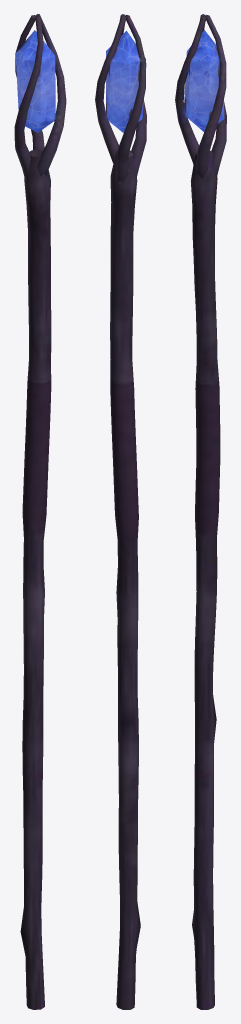
3 renders of one model, left to right at view 1: azimuth 30°, elevation 25°; view 2: azimuth 210°, elevation 25°; view 3: azimuth 330°, elevation 25°, orthographic.
Visible parts, largest first — view 1: variant_0; view 2: variant_0; view 3: variant_0.
Boxes of the visible parts, <box> form: variant_0: <box>14,14,66,1009</box>; variant_0: <box>95,14,146,1009</box>; variant_0: <box>175,14,226,1009</box>.
Size of the model in its own units: 0.0874 by 1.71 by 0.081.
Materials: 2 (2 with a texture image).
